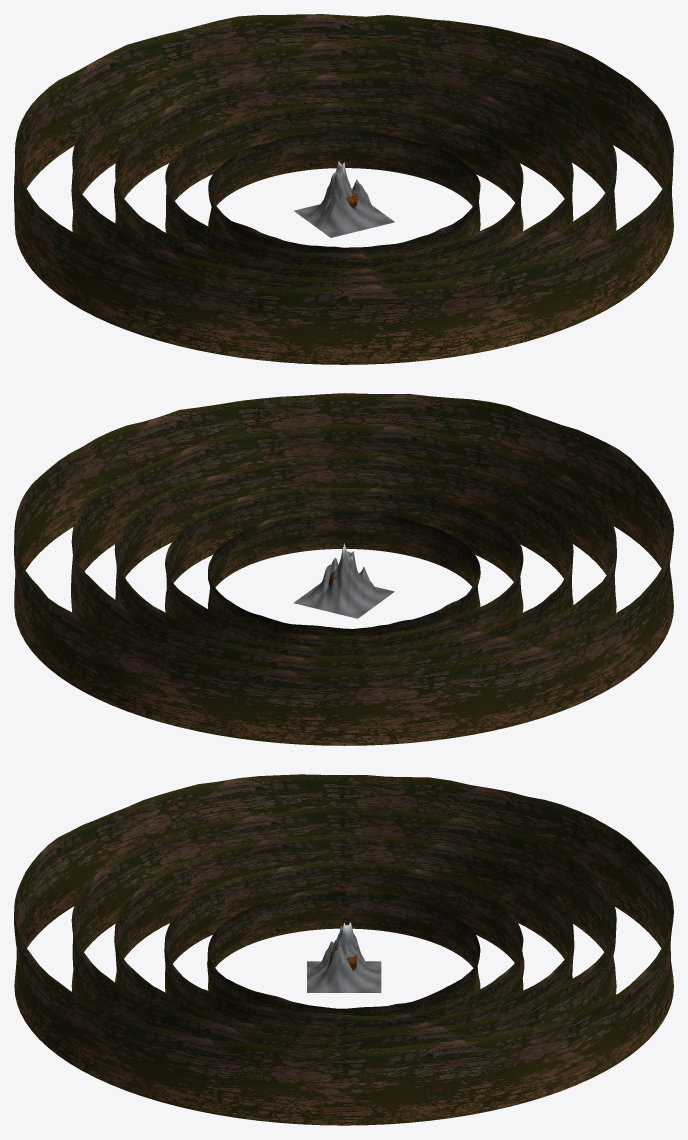
Rendered from mountains-cr1.glb.
3 renders of one model, top to bottom at view 1: azimuth 30°, elevation 25°; view 2: azimuth 150°, elevation 25°; view 3: azimuth 270°, elevation 25°, orthographic.
Parts seen in each view (by area): view 1: RangeRing, HeroPeak; view 2: RangeRing, HeroPeak; view 3: RangeRing, HeroPeak.
Part boxes in pixels (x1,y1,x2,y2): RangeRing: [14, 14, 673, 364]; HeroPeak: [294, 161, 394, 237]; RangeRing: [14, 393, 673, 745]; HeroPeak: [293, 543, 394, 618]; RangeRing: [14, 774, 673, 1125]; HeroPeak: [307, 922, 381, 992].
Size of the model in its own units: 4620 by 614 by 4602.
3 materials, 2 textured.
